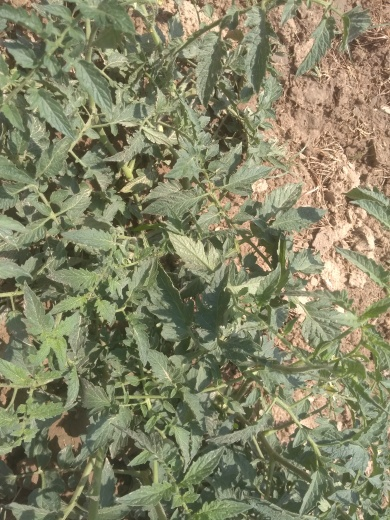tomato diseased leaf: (117, 174, 158, 200)
tomato plant: (12, 7, 353, 501)
